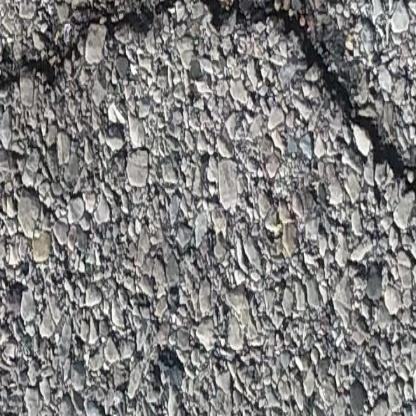Cracks: (0, 0, 416, 191)
